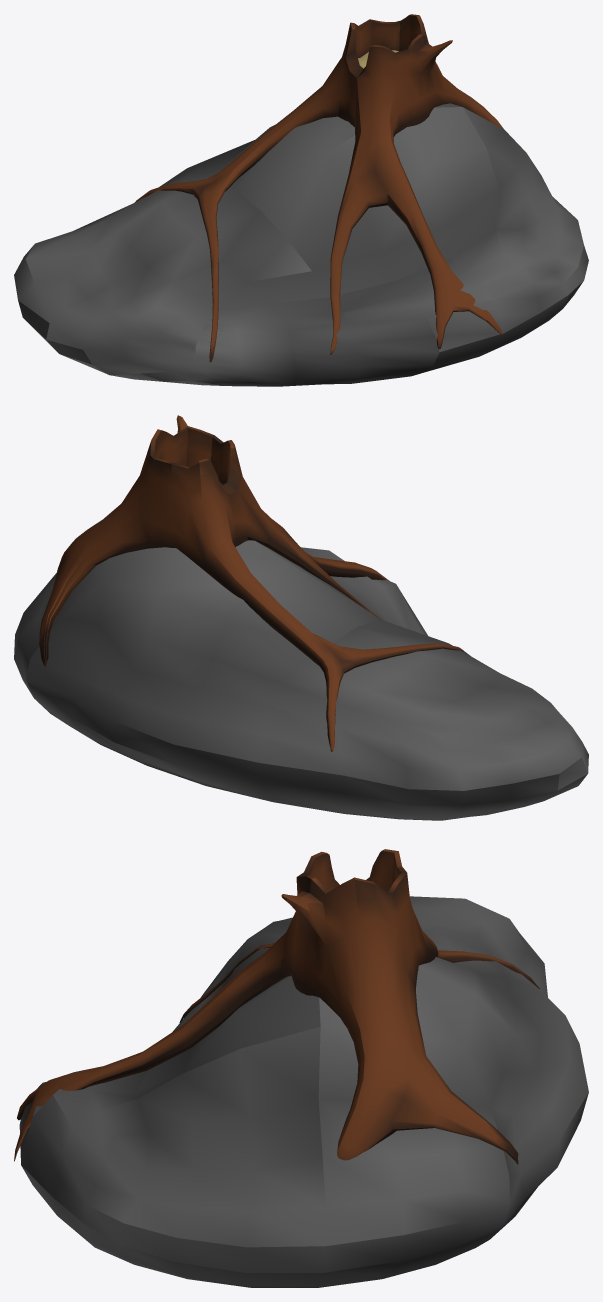
File: WoodOnRock1.fbx
3 renders of one model, top to bottom at view 1: azimuth 30°, elevation 25°; view 2: azimuth 150°, elevation 25°; view 3: azimuth 270°, elevation 25°, orthographic. The views are drawn at different scales.
Parts seen in each view (by area): view 1: WoodOnRock1; view 2: WoodOnRock1; view 3: WoodOnRock1.
Part boxes in pixels (<box>): WoodOnRock1: <box>14,14,588,386</box>; WoodOnRock1: <box>14,415,588,820</box>; WoodOnRock1: <box>14,849,588,1287</box>.
Bounding box in the file's own units: 350 × 185 × 247.
